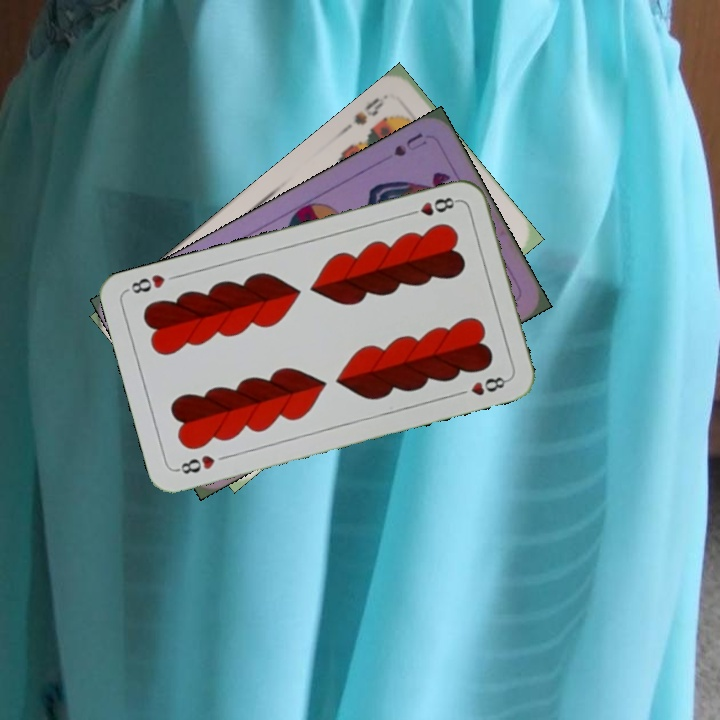H8: (403, 193, 461, 219), (172, 451, 218, 477)
S8: (349, 93, 388, 128)
SU: (389, 128, 430, 160)
